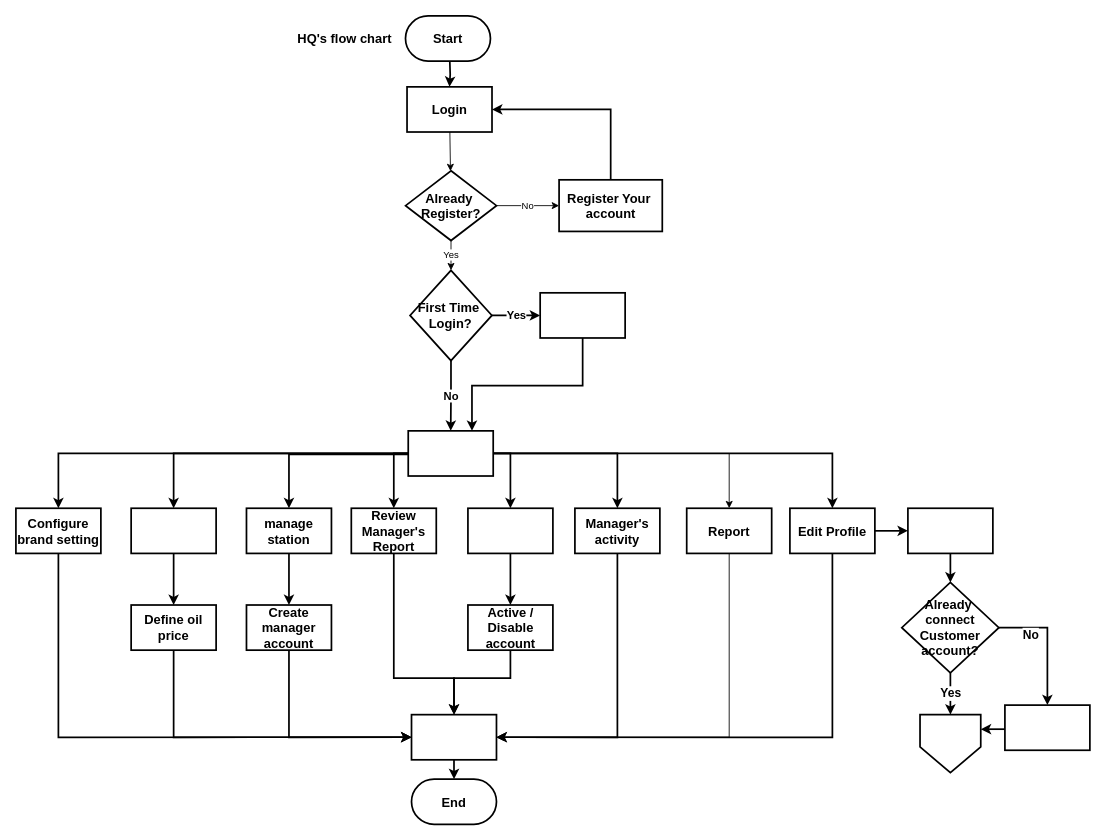
The diagram is 1105 pixels wide and 839 high, and some of its shapes have lost their labels. The shapes that lost their labels are listed below. From the top down, each one's box as (x1, y1, x2, y2) in pixels, then its label:
(539, 292, 626, 338): Change password
(407, 430, 494, 476): Dashboard
(130, 507, 217, 554): Define standard oil type
(467, 507, 553, 554): Manage manager's account
(907, 507, 993, 554): Change to Customer account
(410, 713, 497, 760): Logout
(919, 713, 981, 773): Customer
(1004, 704, 1090, 751): Connect Customer account
